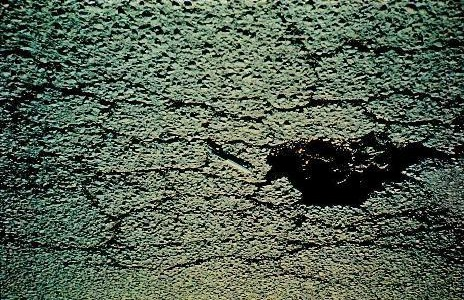pothole: (262, 126, 452, 213)
